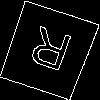R: (23, 25, 75, 81)
